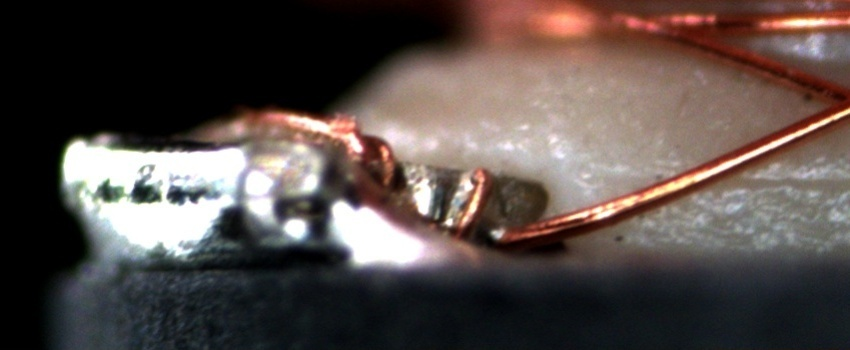CL: (800, 70, 849, 131)
DL: (606, 150, 849, 212)
TE: (242, 106, 497, 239)
